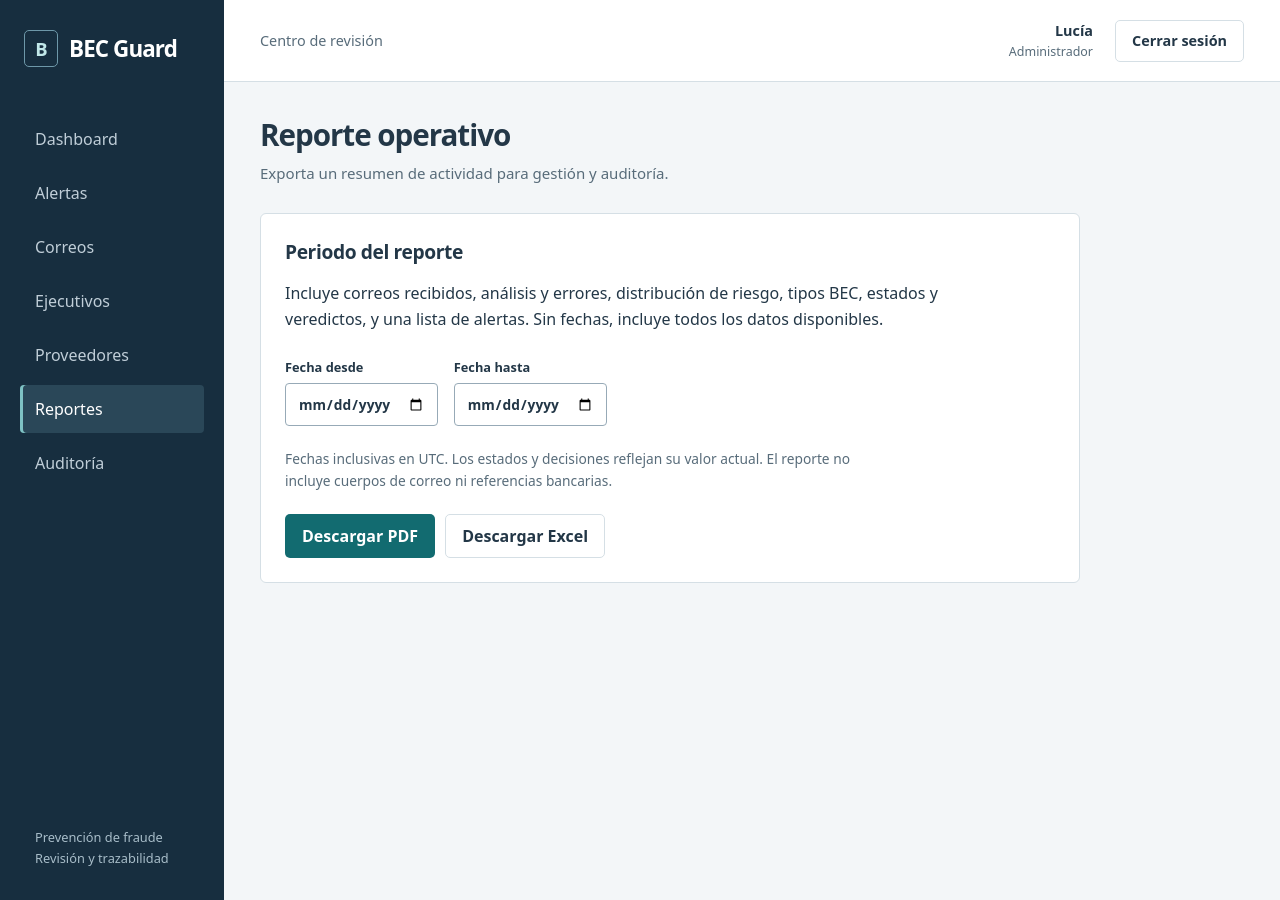
Scenario: authenticated Descargar Excel download and cleanup
Click the button "Descargar Excel": (525, 536) [445,514,605,558]
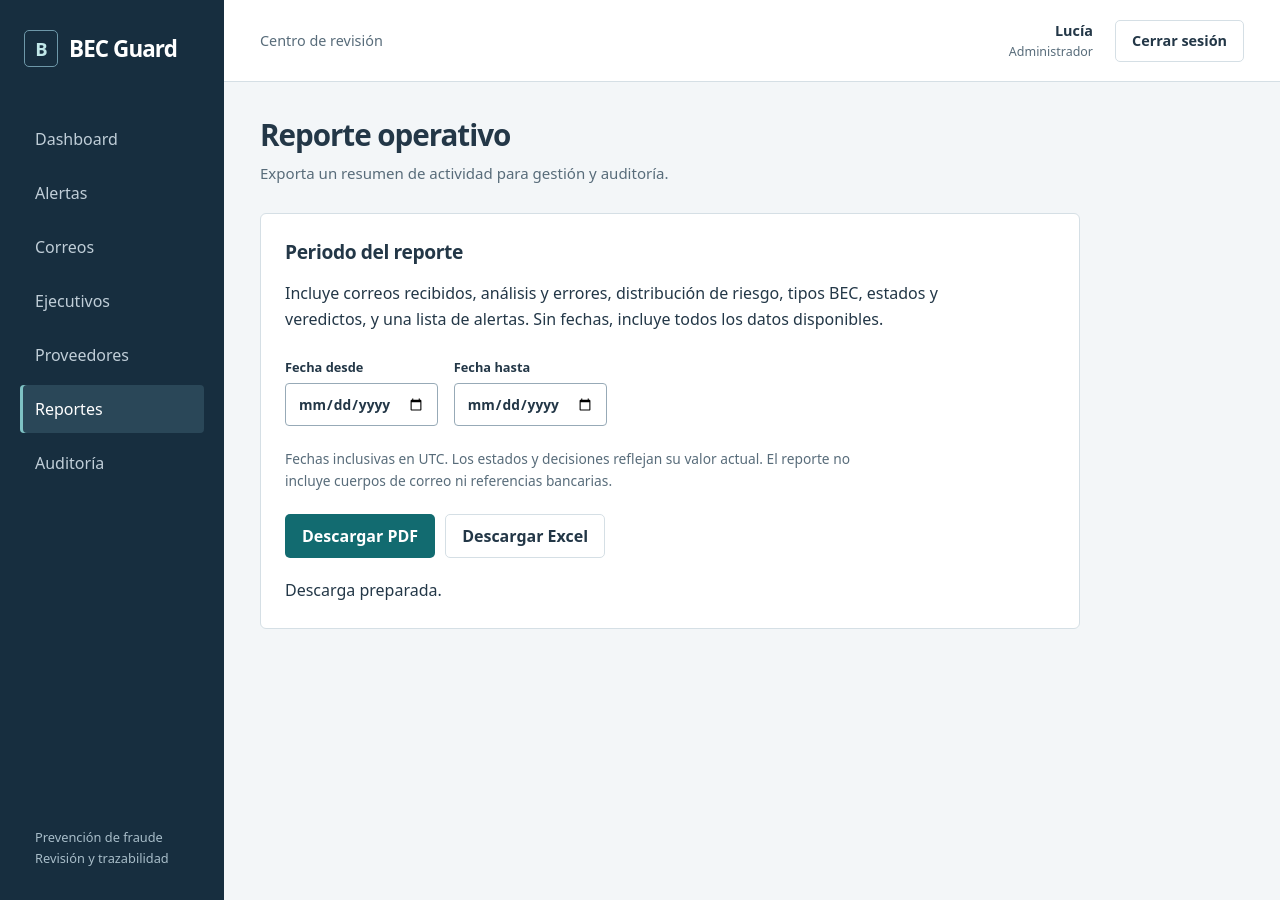
expect the text "Descarga preparada." is shown: met, box [285,579,442,601]
